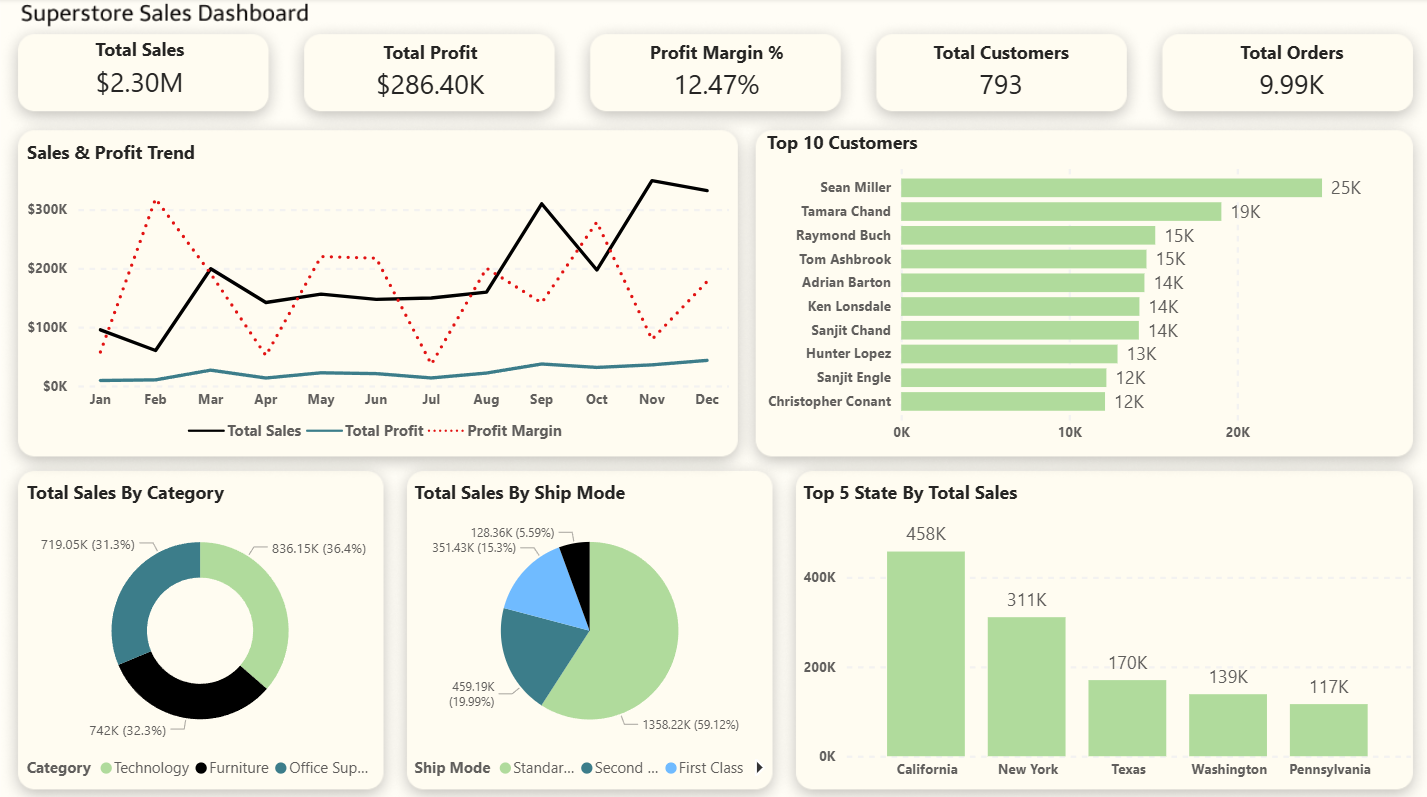

What the dashboard file says about the page in this screenshot:
{"tool":"powerbi","page":{"name":"Page 1","canvas":[1280,720],"ordinal":0},"visuals":[{"type":"card","title":"Total Sales","fields":{"Values":["superstore.Revenue"]},"box":[20.6,28.8,211.1,67.2],"z":0},{"type":"card","title":"Total Profit","fields":{"Values":["superstore.Total_Profit"]},"box":[282.4,32.9,205.6,63.1],"z":1000},{"type":"card","title":"Profit Margin %","fields":{"Values":["superstore.Profit_Margin"]},"box":[546.9,32.9,187.8,63.1],"z":2000},{"type":"card","title":"Total Orders","fields":{"Values":["CountNonNull(superstore.Order ID)"]},"box":[1054.1,32.9,201.5,63.1],"z":3000},{"type":"card","title":"Total Customers","fields":{"Values":["Count(superstore.Customer ID)"]},"box":[797.8,32.9,196,63.1],"z":4000},{"type":"lineChart","title":"Sales & Profit Trend","fields":{"Y":["superstore.Total_Sales","superstore.Total_Profit"],"Y2":["superstore.Profit_Margin"],"Category":["DateTable.MonthName"]},"box":[20.6,122,637.4,283.7],"z":5000},{"type":"clusteredBarChart","title":"Top 10 Customers","fields":{"Category":["superstore.Customer Name"],"Y":["Sum(superstore.Sales)"]},"box":[681.3,112.4,574.3,293.3],"z":6000},{"type":"donutChart","title":"Total Sales By Category","fields":{"Category":["superstore.Category"],"Y":["Sum(superstore.Sales)"]},"box":[20.4,425.9,319.4,281.5],"z":7000},{"type":"pieChart","title":"Total Sales By Ship Mode","fields":{"Y":["Sum(superstore.Sales)"],"Category":["superstore.Ship Mode"]},"box":[366.7,425.9,323.1,281.5],"z":8000},{"type":"columnChart","title":"Top 5 State By Total Sales","fields":{"Category":["superstore.State"],"Y":["Sum(superstore.Sales)"]},"box":[713.9,425.9,552.8,281.5],"z":9000}]}

Visuals, with their boxes in screenshot pixels (x1, y1, x2, y2), scaled from the page's 1280x720 canvas onto the 1427x797 screenshot:
"Total Sales" card: (23,32,258,106)
"Total Profit" card: (315,36,544,106)
"Profit Margin %" card: (610,36,819,106)
"Total Orders" card: (1175,36,1400,106)
"Total Customers" card: (889,36,1108,106)
"Sales & Profit Trend" lineChart: (23,135,734,449)
"Top 10 Customers" clusteredBarChart: (760,124,1400,449)
"Total Sales By Category" donutChart: (23,471,379,783)
"Total Sales By Ship Mode" pieChart: (409,471,769,783)
"Top 5 State By Total Sales" columnChart: (796,471,1412,783)
